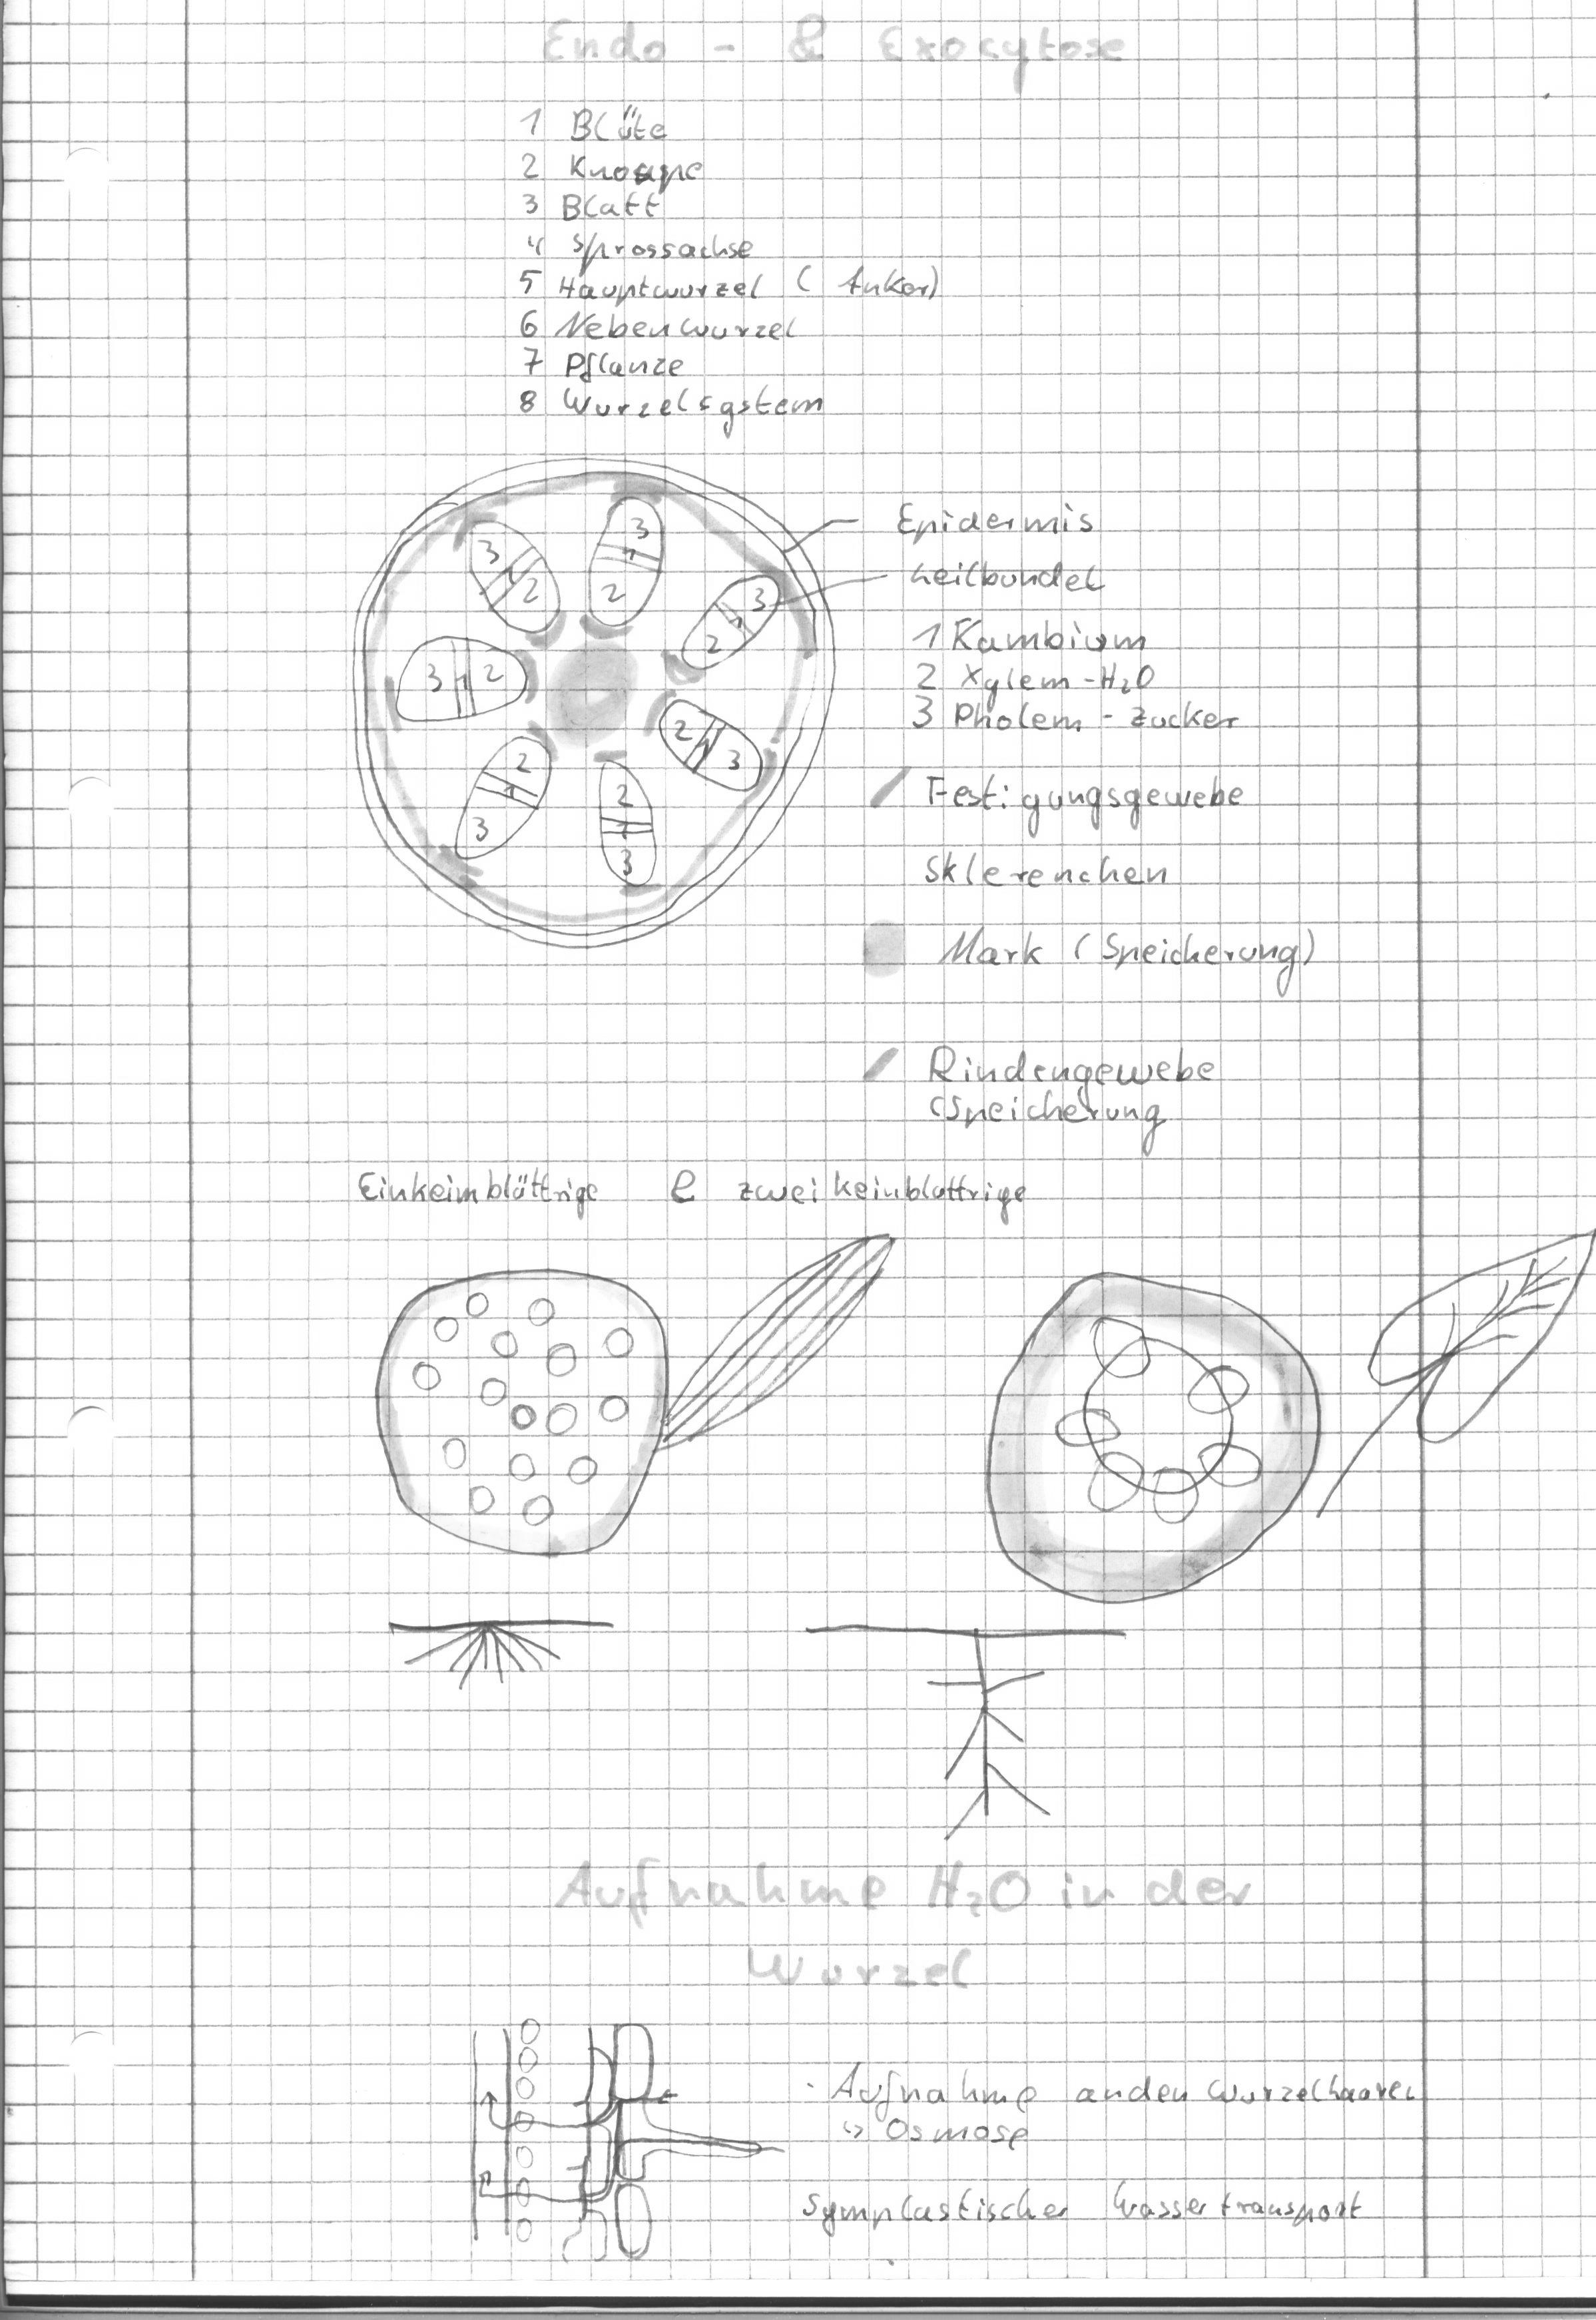word: (491, 97, 943, 454), (768, 2043, 1434, 2263), (912, 756, 1342, 1013), (882, 486, 1255, 756), (306, 1131, 1035, 1248), (901, 1025, 1214, 1171)
